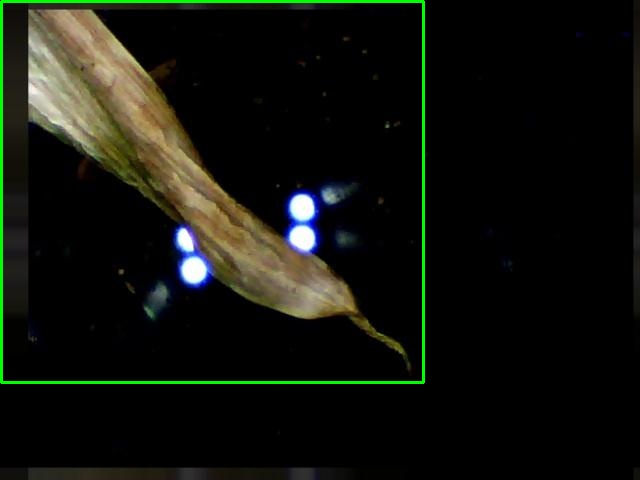feuille: (1, 1, 423, 382)
